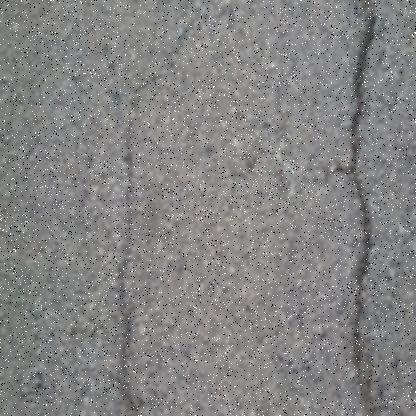Cracks: (334, 0, 393, 416), (113, 90, 143, 416)
